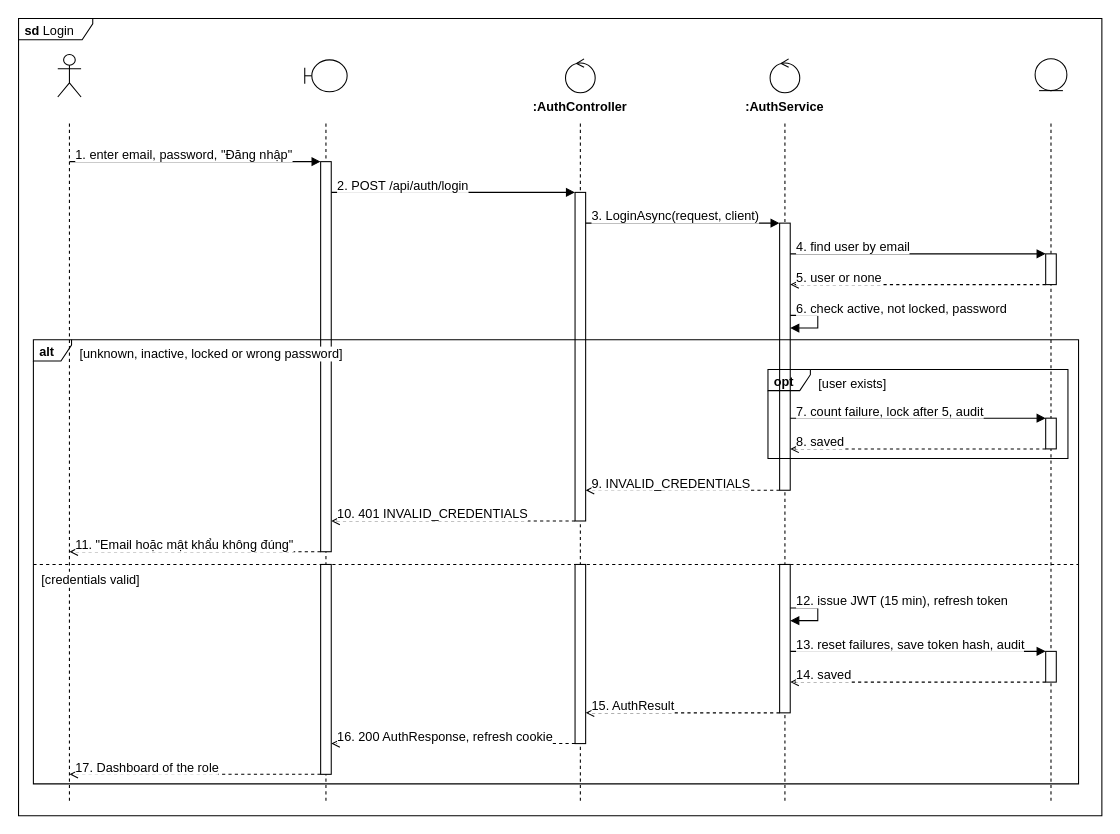
Image size: 1120x834. Some labels were removed from this diagram. The centre of each missing label's shape, as x and y in pixels:
":Database" goes at (x=1050, y=74).
":Login page" goes at (x=325, y=75).
"User" goes at (x=69, y=75).
